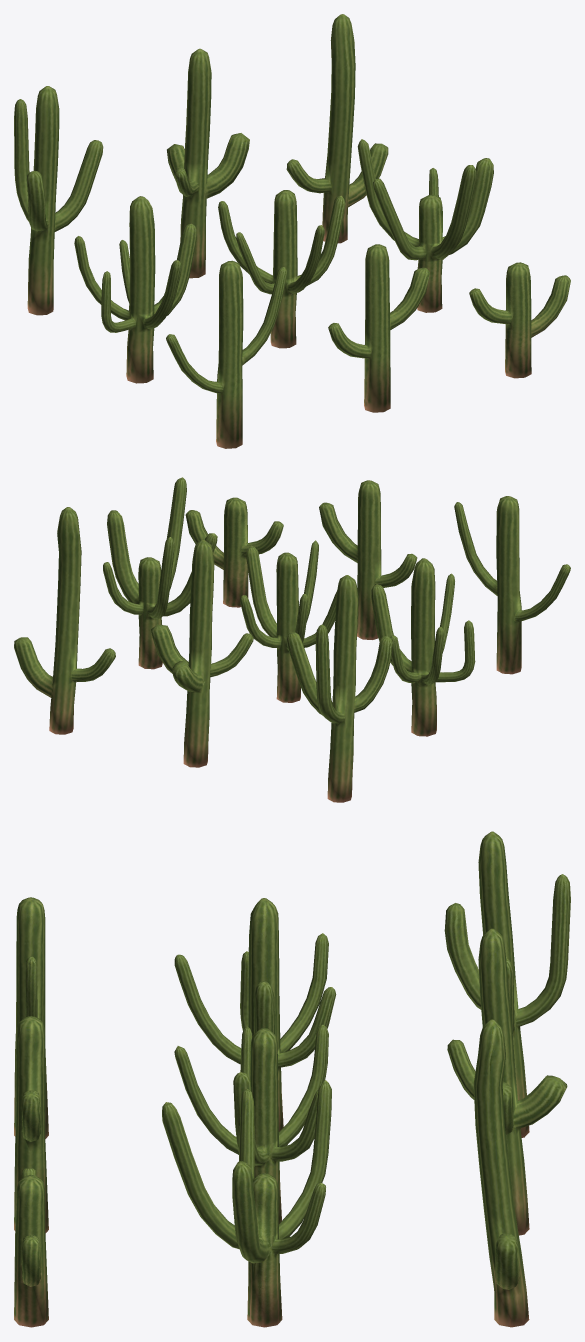
The model's file is cactus.glb.
The picture shows the model from 3 angles, top to bottom: view 1: azimuth 30°, elevation 25°; view 2: azimuth 150°, elevation 25°; view 3: azimuth 270°, elevation 25°; orthographic projection. The views are drawn at different scales.
Parts seen in each view (by area): view 1: cactus_9, cactus_6, cactus_4, cactus_8, cactus_5, cactus_3, cactus_7, cactus_2, cactus_1; view 2: cactus_9, cactus_6, cactus_8, cactus_7, cactus_4, cactus_5, cactus_3, cactus_2, cactus_1; view 3: cactus_4, cactus_6, cactus_5, cactus_7, cactus_9, cactus_8, cactus_2, cactus_1, cactus_3.
Boxes of the visible parts, x1,y1,x2,y2 form: cactus_9: (14,86,103,315); cactus_6: (74,196,196,383); cactus_4: (357,139,493,312); cactus_8: (167,48,249,278); cactus_5: (218,190,345,348); cactus_3: (166,260,287,448); cactus_7: (286,14,388,243); cactus_2: (328,244,429,412); cactus_1: (469,262,570,378); cactus_9: (286,575,392,802); cactus_6: (371,558,475,736); cactus_8: (151,540,253,767); cactus_7: (14,507,115,734); cactus_4: (103,477,217,669); cactus_5: (240,540,337,702); cactus_3: (454,496,570,674); cactus_2: (319,480,417,639); cactus_1: (185,497,283,607); cactus_4: (162,1080,331,1327); cactus_6: (174,898,336,1131); cactus_5: (174,1024,328,1223); cactus_7: (473,1019,529,1327); cactus_9: (444,831,570,1137); cactus_8: (447,928,567,1235); cactus_2: (14,1016,48,1232); cactus_1: (14,1168,48,1327); cactus_3: (14,897,48,1138).
Size of the model in its own units: 7.66 by 4.12 by 6.94.
9 materials, 9 textured.
